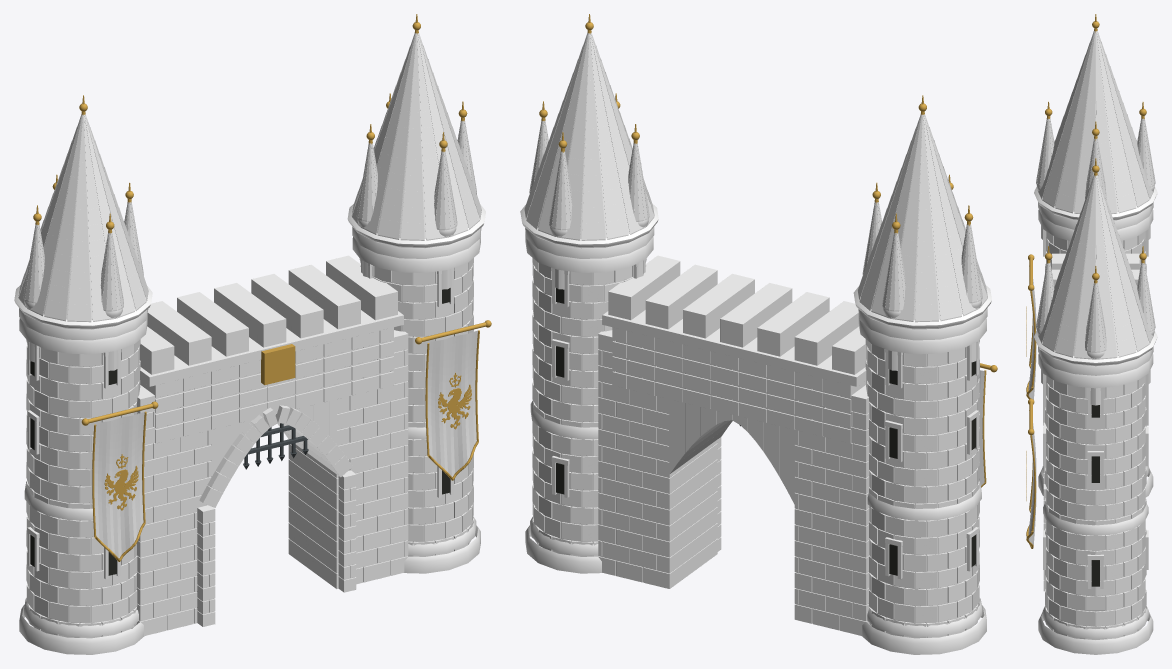
The model's file is 01_gatehouse.glb.
3 views of the same model, side by side, from view 1: azimuth 30°, elevation 25°; view 2: azimuth 150°, elevation 25°; view 3: azimuth 270°, elevation 25° (orthographic). The views are drawn at different scales.
Visible parts, largest first — view 1: 01_gatehouse; view 2: 01_gatehouse; view 3: 01_gatehouse.
Boxes of the visible parts, bbox=[...] form: 01_gatehouse: bbox=[14, 14, 491, 654]; 01_gatehouse: bbox=[520, 14, 997, 654]; 01_gatehouse: bbox=[1026, 14, 1157, 654].
Bounding box in the file's own units: 10.36 × 11.6 × 2.93.
